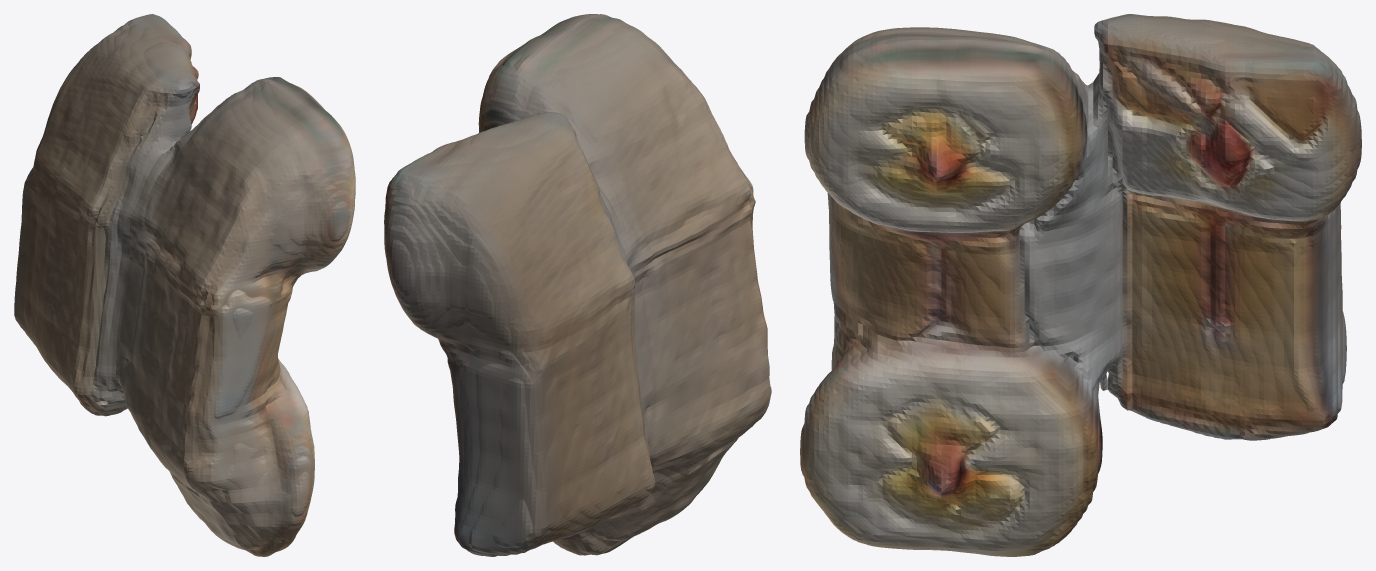
3 renders of one model, left to right at view 1: azimuth 30°, elevation 25°; view 2: azimuth 150°, elevation 25°; view 3: azimuth 270°, elevation 25°, orthographic. The views are drawn at different scales.
Visible parts, largest first — view 1: world; view 2: world; view 3: world.
Part boxes in pixels (left/top/right/bottom): world: left=14, top=14, right=355, bottom=556; world: left=384, top=14, right=771, bottom=556; world: left=800, top=14, right=1361, bottom=556.
Size of the model in its own units: 0.4031 by 0.8408 by 0.7831.
